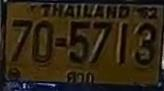0: (31, 20, 53, 63)
1: (116, 22, 127, 64)
3: (134, 22, 155, 64)
5: (69, 20, 89, 62)
7: (11, 19, 32, 61), (91, 21, 111, 63)
TAK: (64, 67, 96, 86)
